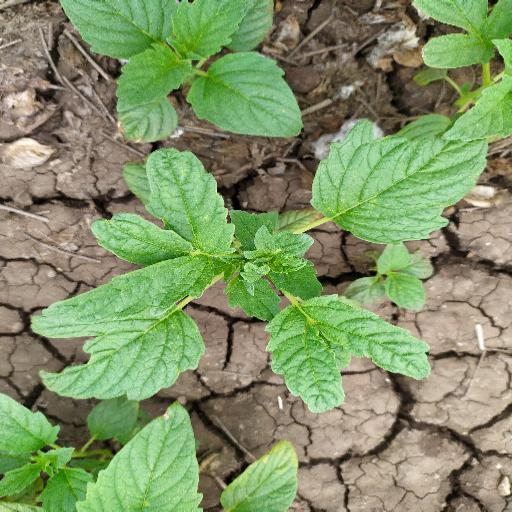crop: (29, 141, 512, 421), (48, 1, 316, 149)
